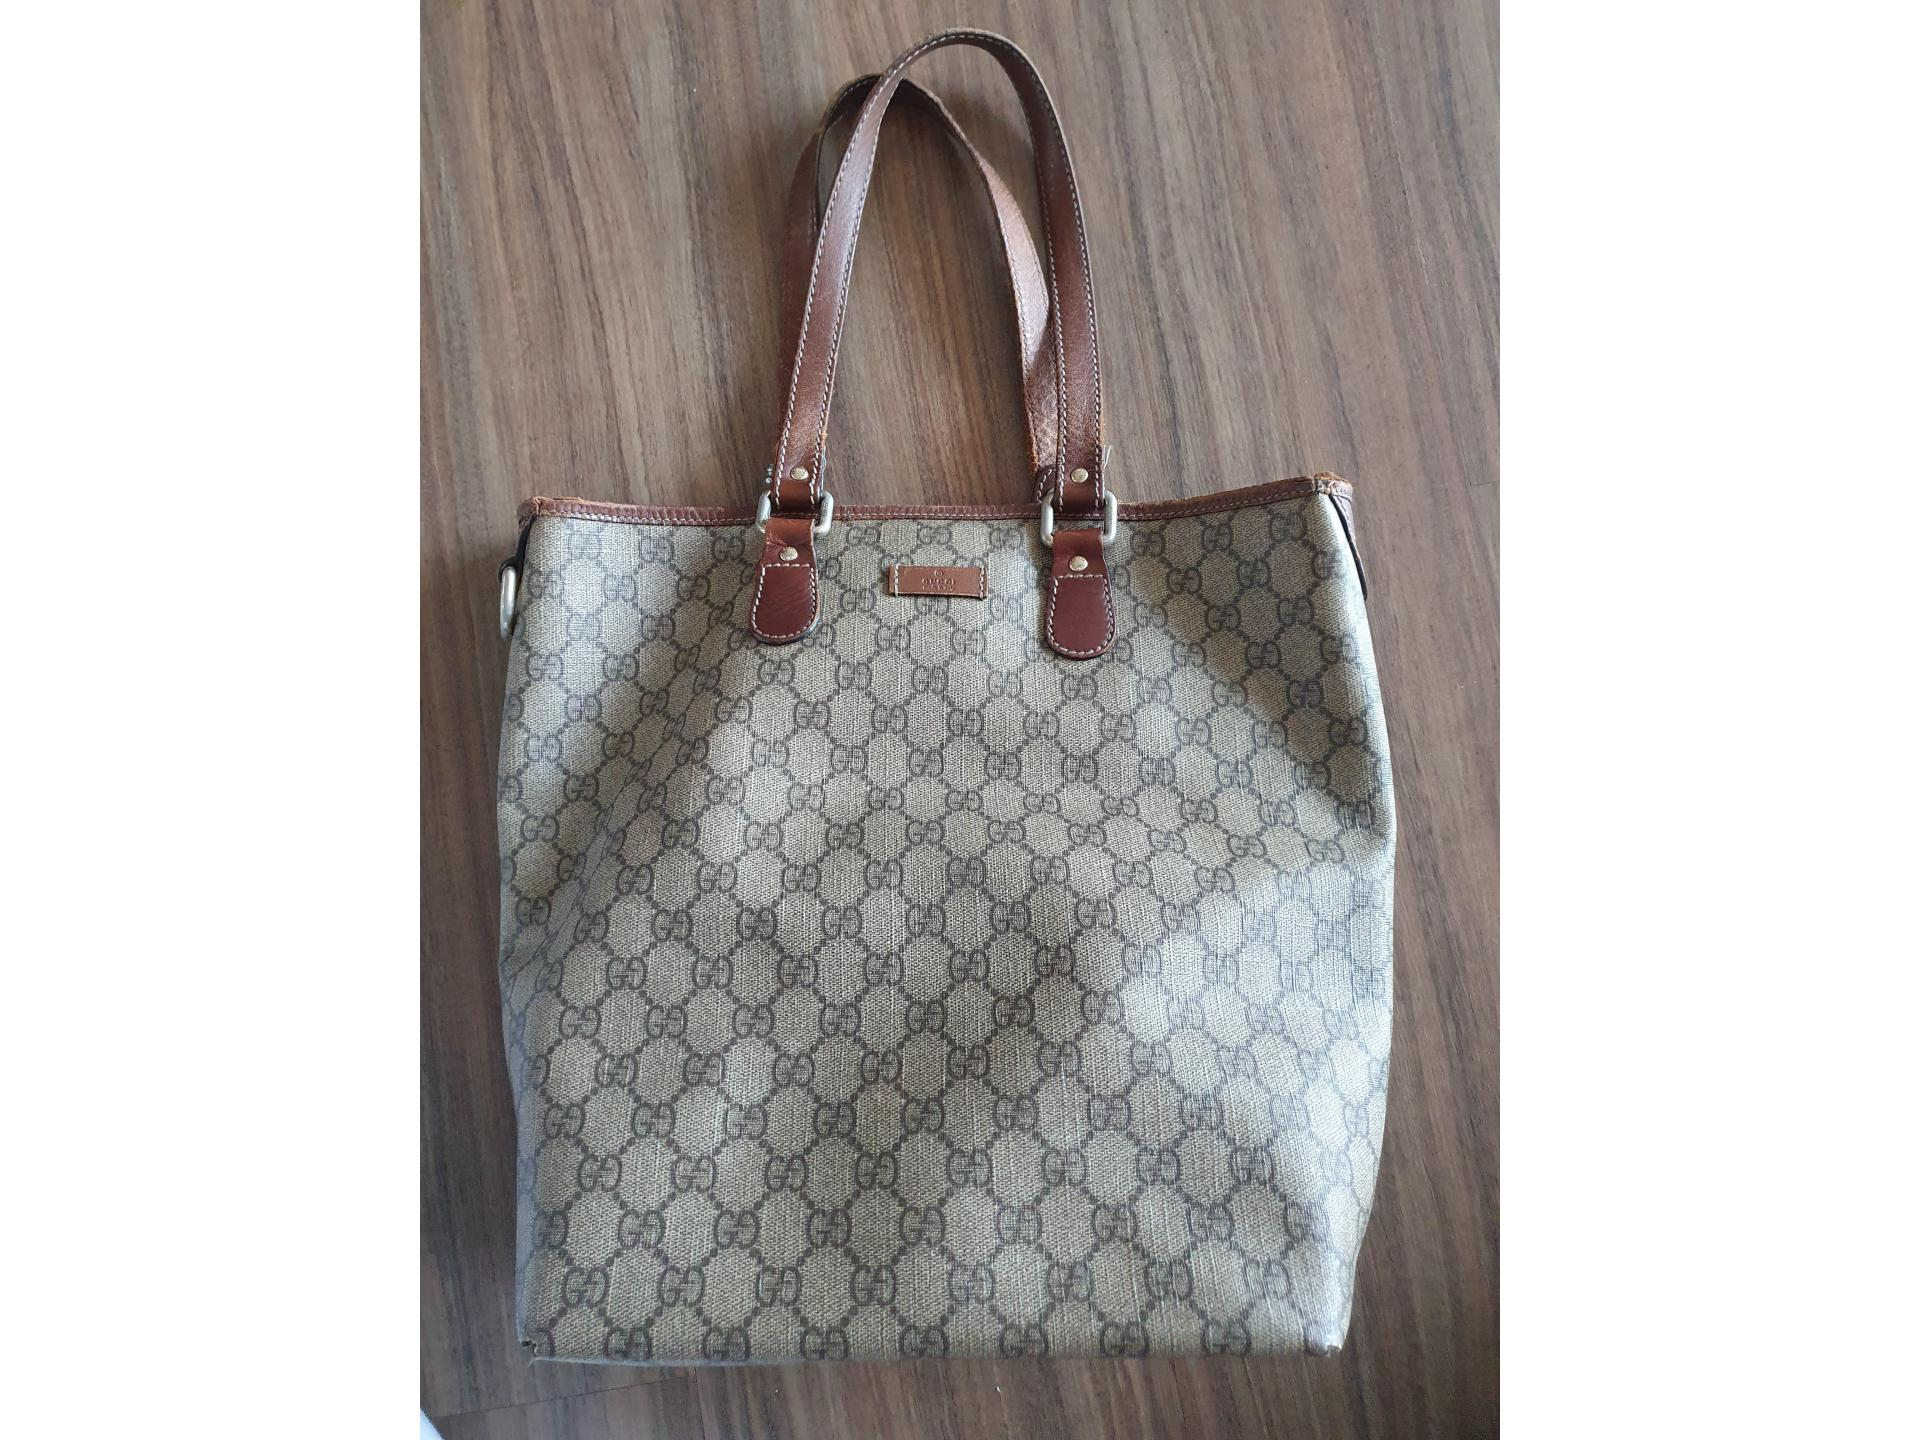Gucci: (529, 492, 1420, 1392), (692, 678, 1219, 1212)
